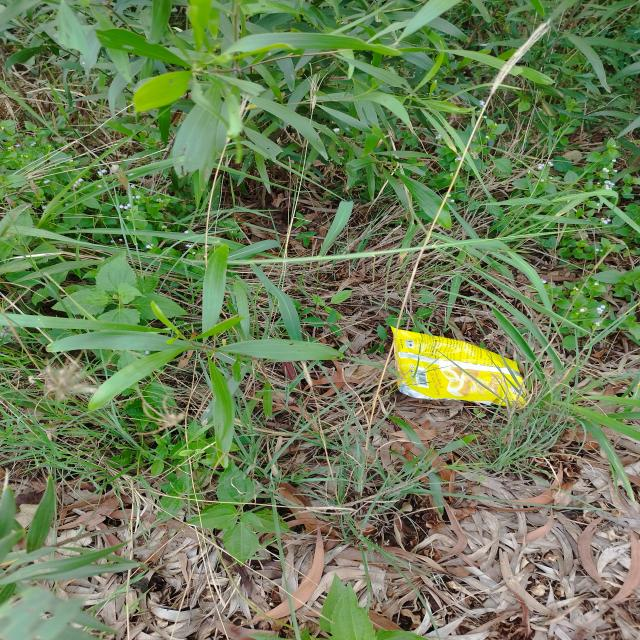snack package: (390, 325, 528, 408)
